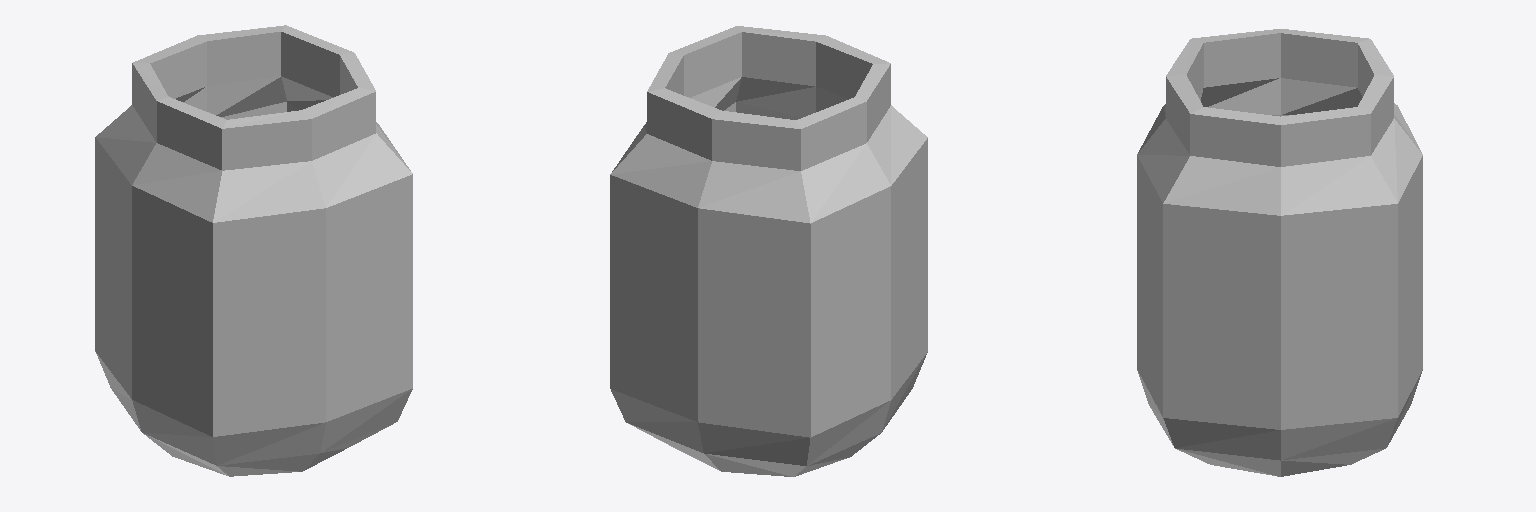
The model's file is jar.obj.
3 views of the same model, side by side, from view 1: azimuth 30°, elevation 25°; view 2: azimuth 150°, elevation 25°; view 3: azimuth 270°, elevation 25° (orthographic).
Parts seen in each view (by area): view 1: Cube; view 2: Cube; view 3: Cube.
Boxes of the visible parts, x1=… form: Cube: x1=95, y1=25, x2=412, y2=476; Cube: x1=610, y1=26, x2=927, y2=476; Cube: x1=1137, y1=29, x2=1422, y2=476.
Bounding box in the file's own units: 2.04 × 2.84 × 2.04.